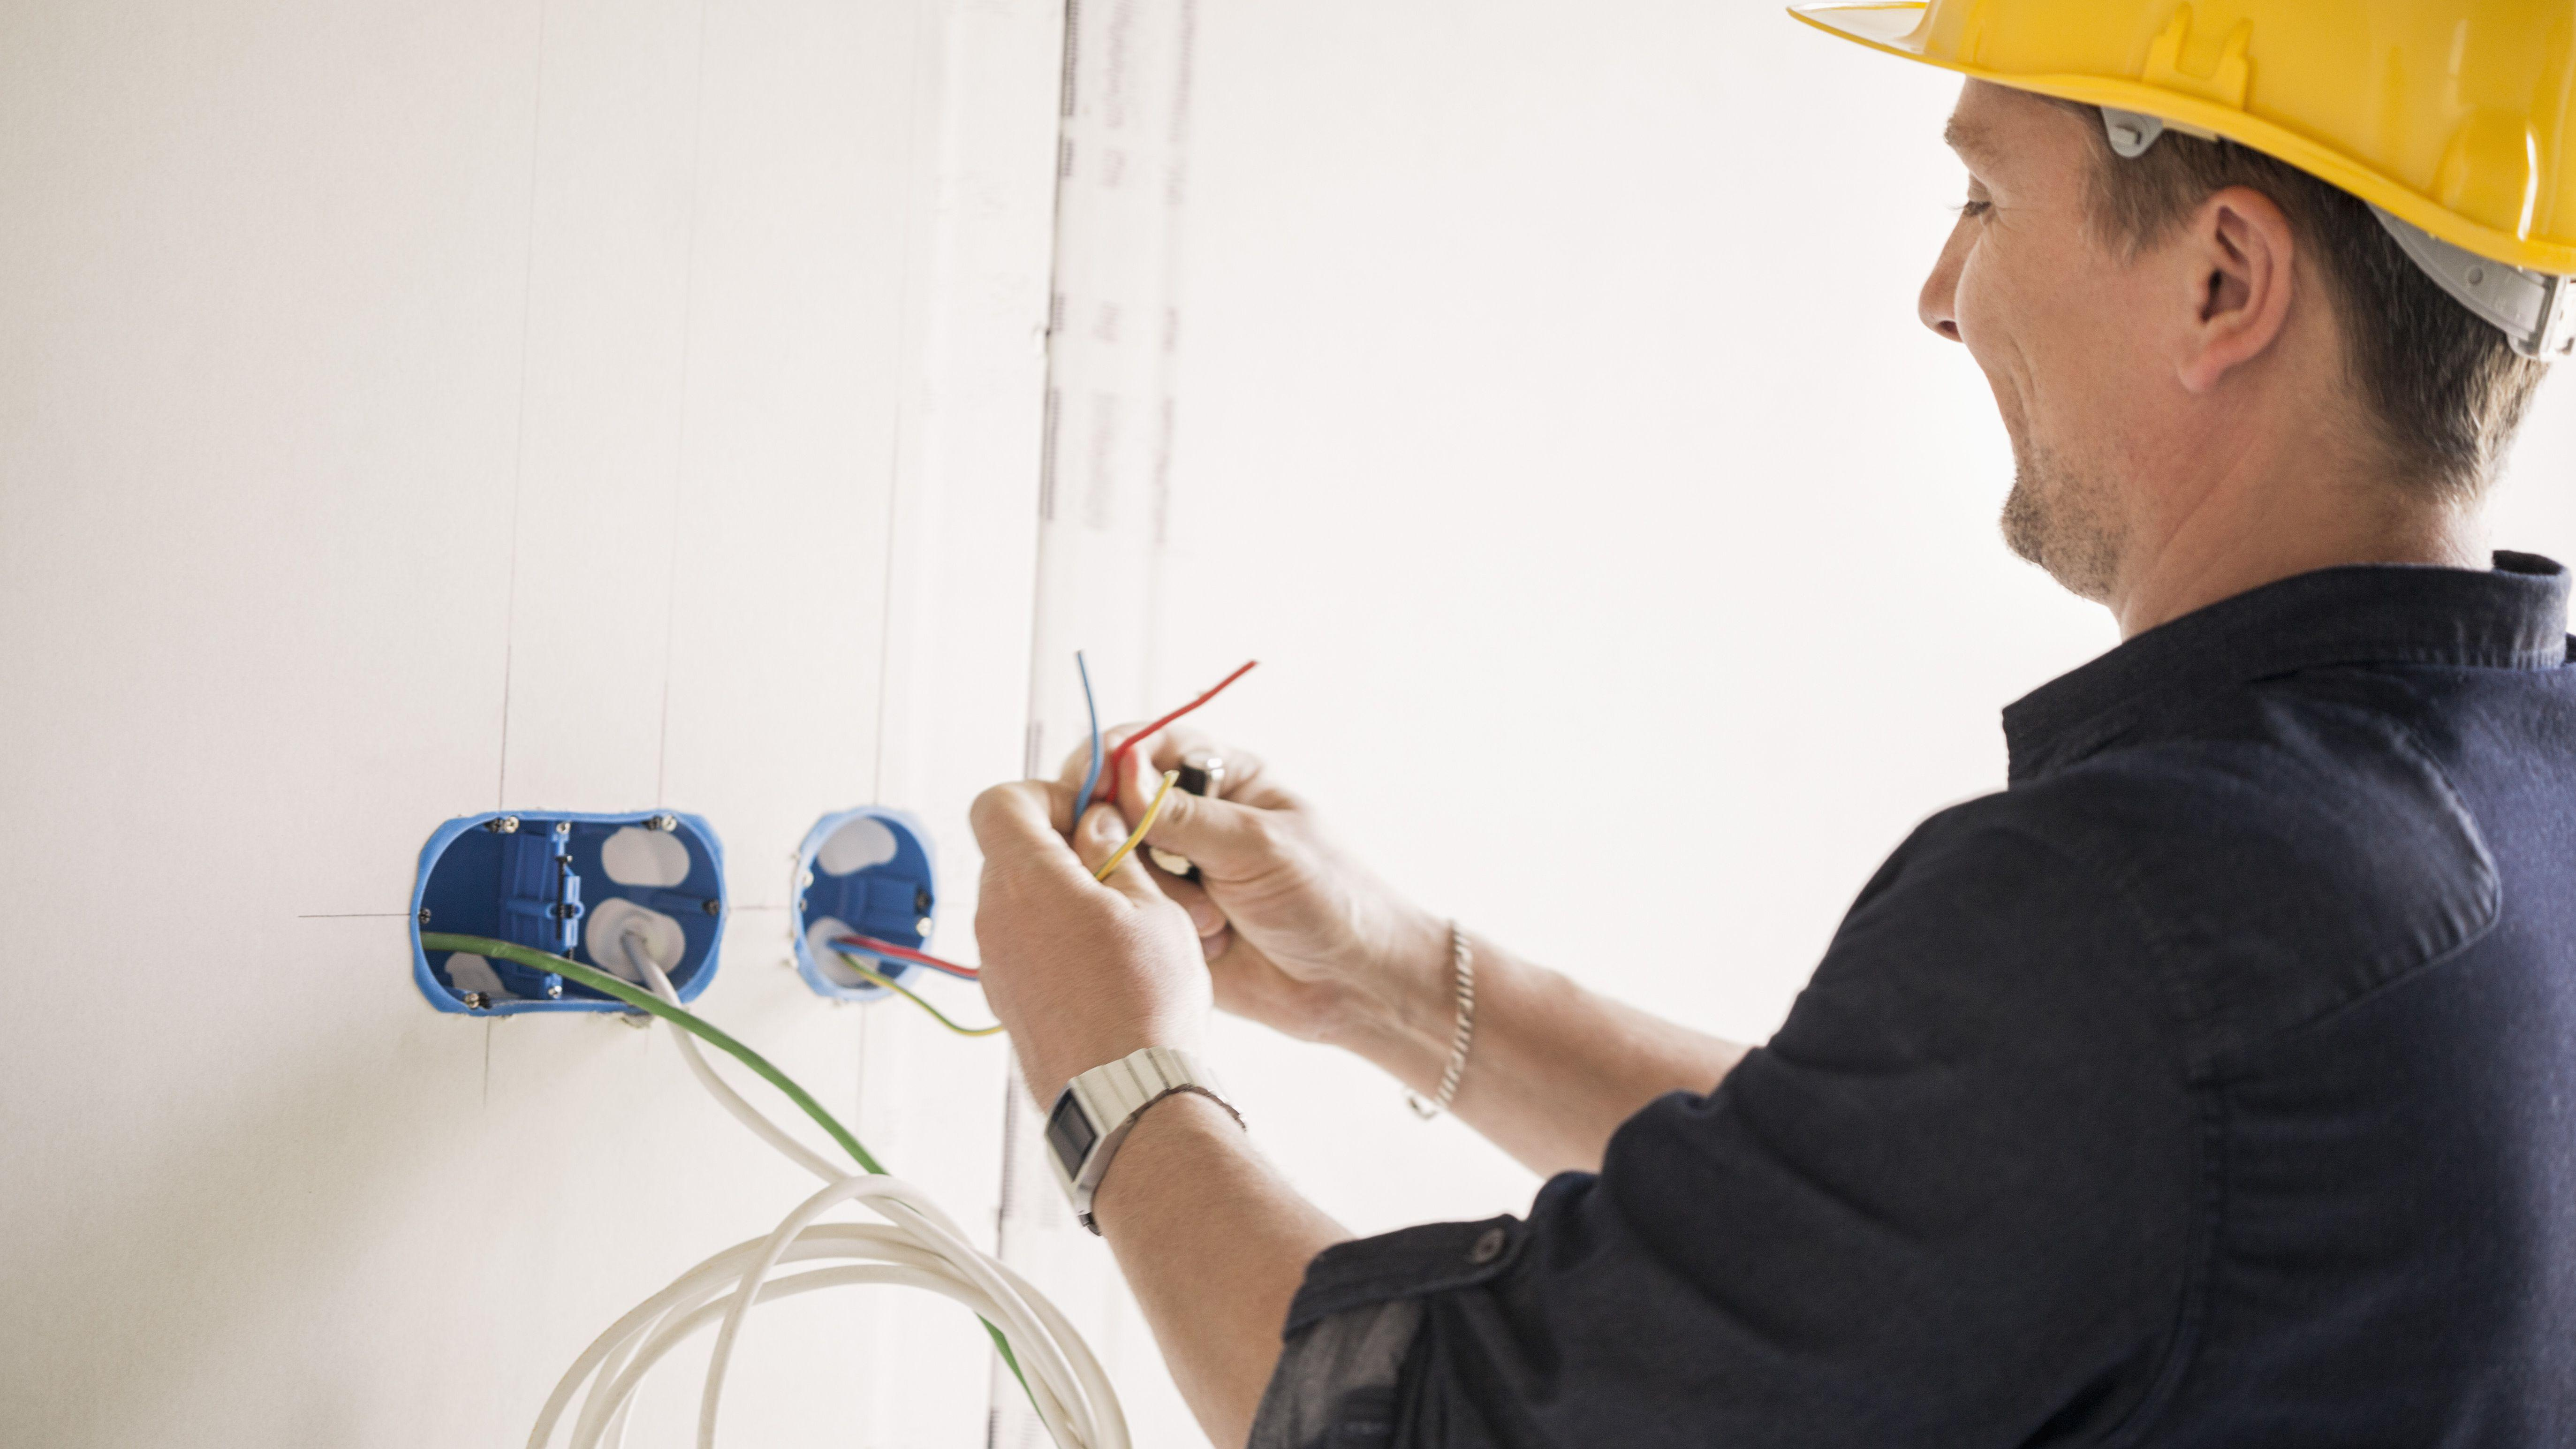helmet: (1798, 0, 2567, 329)
